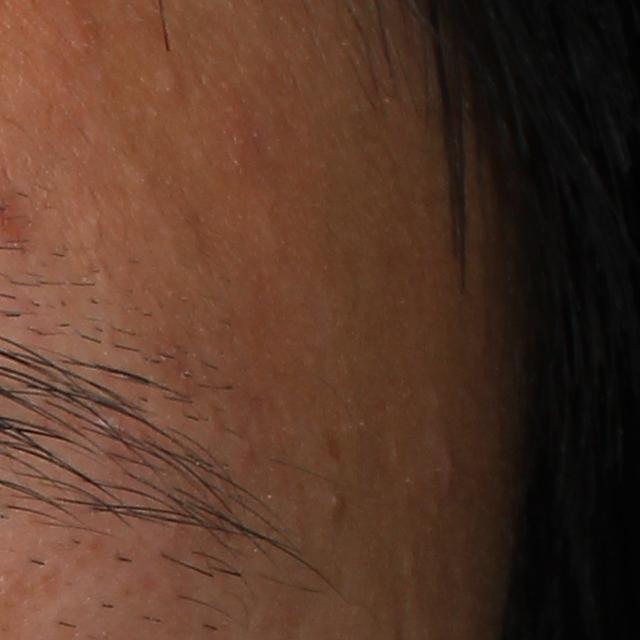comedo: (156, 63, 187, 107), (324, 485, 351, 517)
